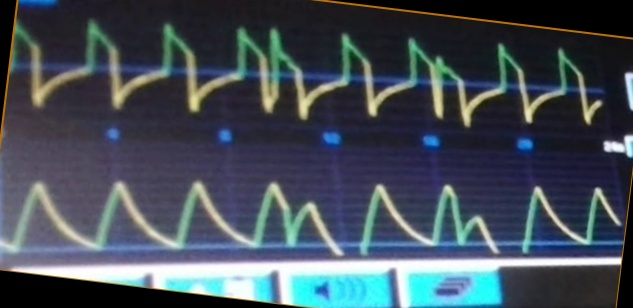Double_Triggering Flow: (44, 19, 593, 127)
Double_Triggering Volume: (37, 162, 620, 254)
